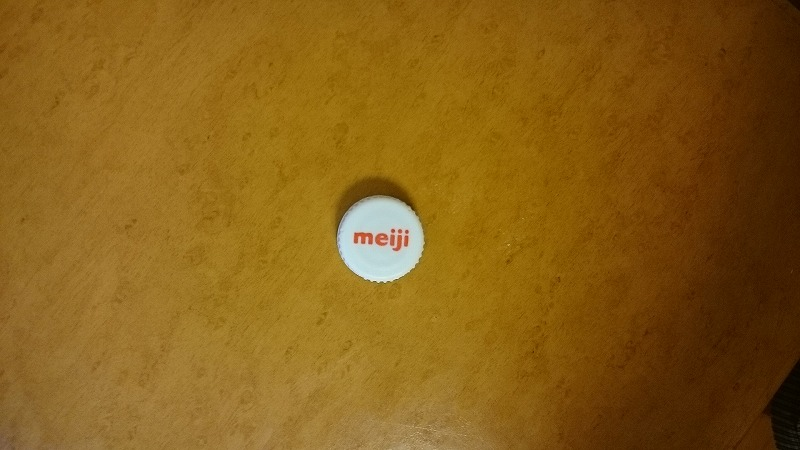B: (331, 192, 430, 290)
